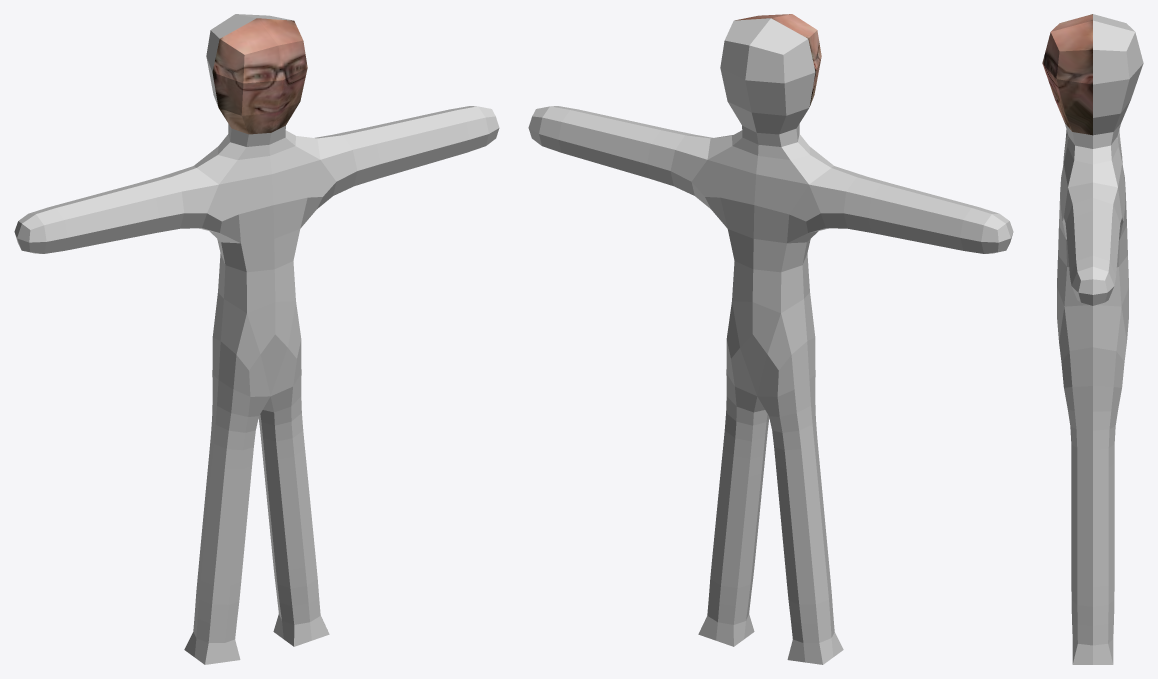
File: humanperson.fbx
The picture shows the model from 3 angles, left to right: view 1: azimuth 30°, elevation 25°; view 2: azimuth 150°, elevation 25°; view 3: azimuth 270°, elevation 25°; orthographic projection.
Visible parts, largest first — view 1: Plane; view 2: Plane; view 3: Plane.
Part boxes in pixels (bbox=[...]): Plane: bbox=[14, 14, 499, 664]; Plane: bbox=[528, 14, 1013, 664]; Plane: bbox=[1042, 14, 1143, 664].
Size of the model in its own units: 581 by 726 by 108.
